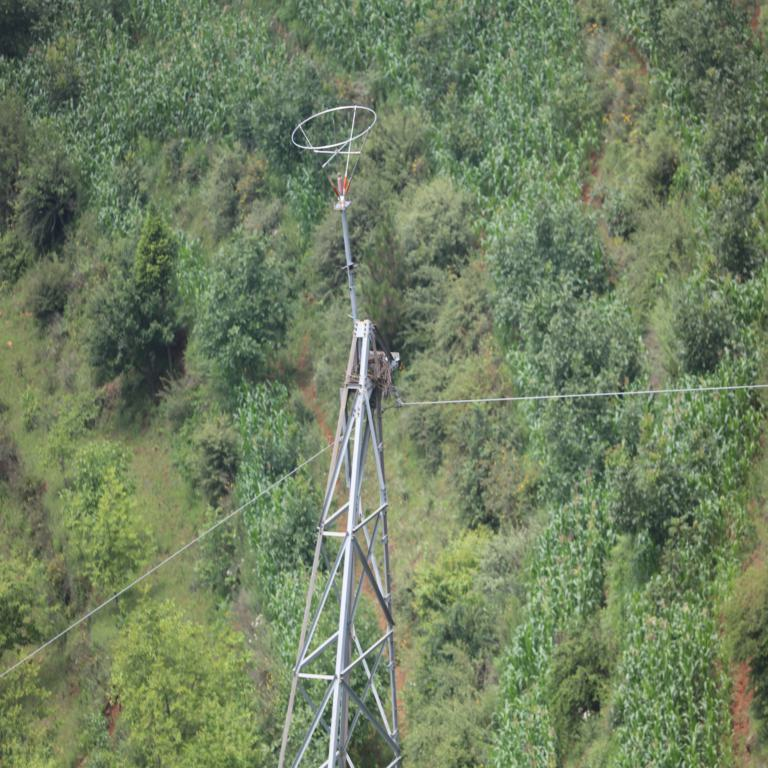nest: (364, 355, 397, 393)
